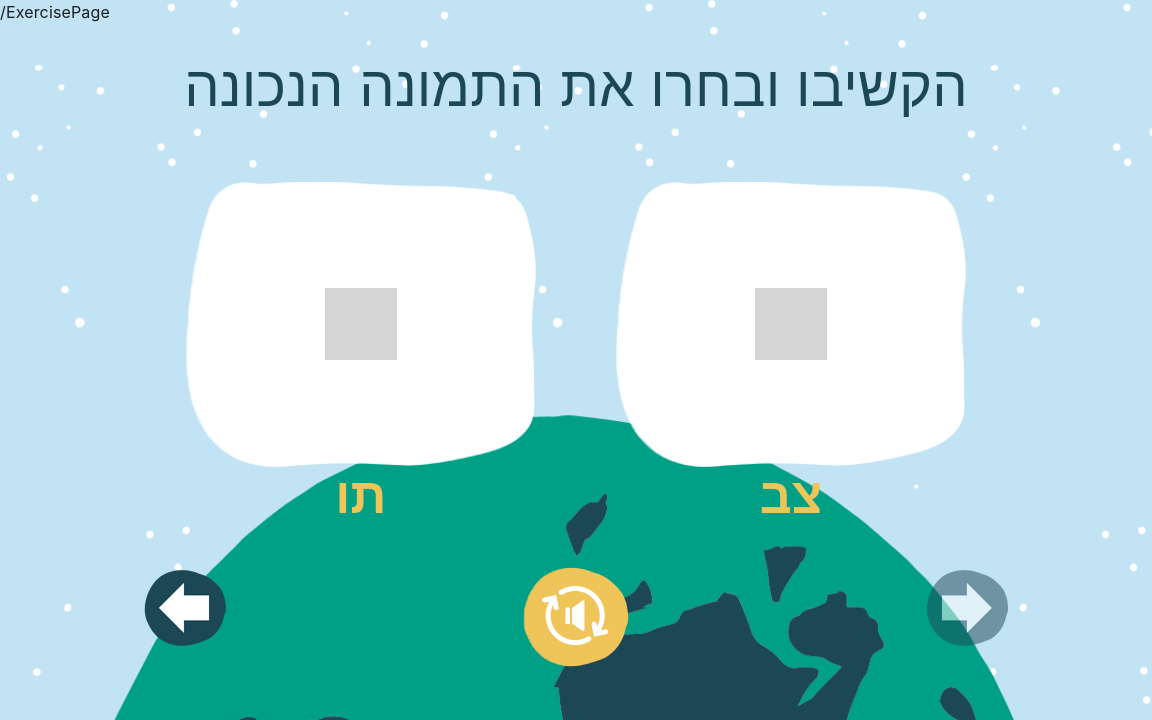
it: skipped pairs are not completed and guests never see a history action
Click the button named "הבא": click(185, 608) [134,559,236,656]
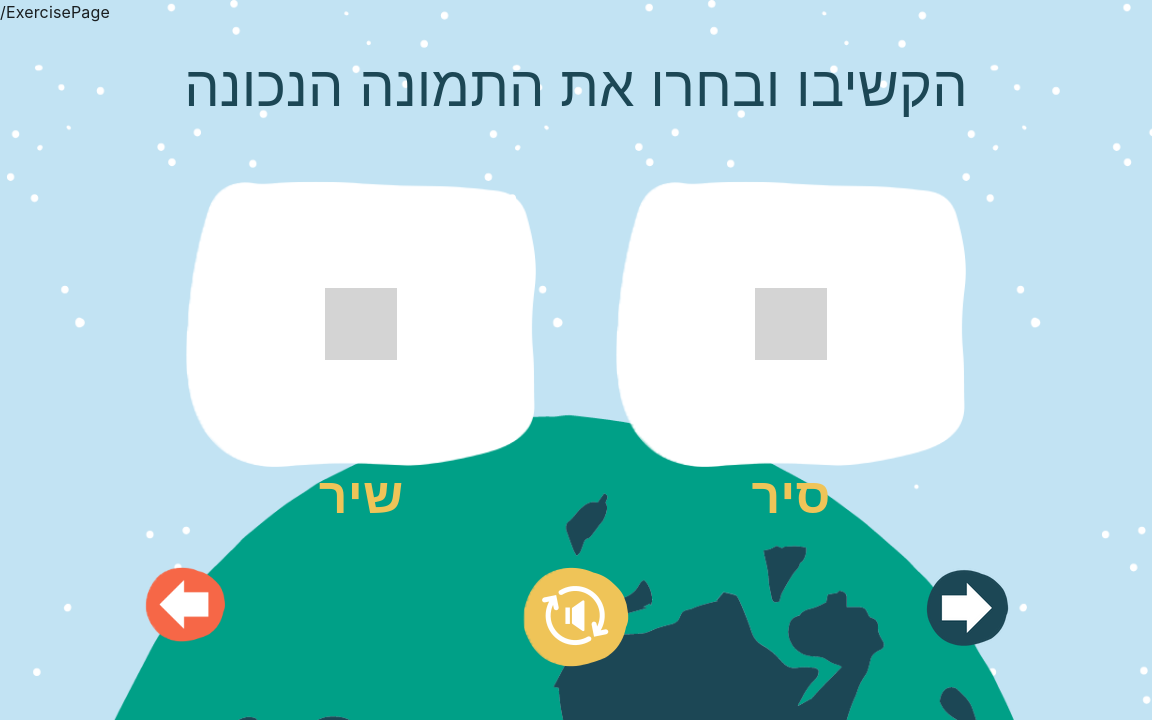
Expected: the button named "סיכום התרגול" is enabled, [137,559,233,650]
Click the button with alt text "סיר" next to "סיר": click(791, 324) [616,148,966,500]
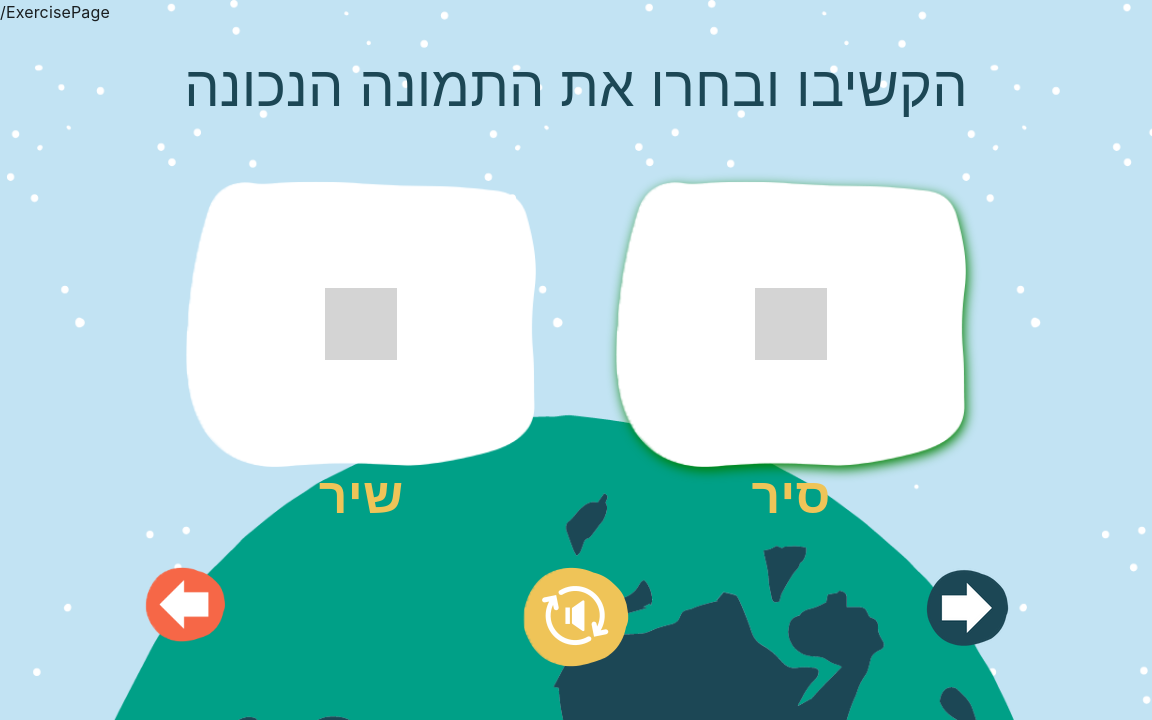
Click the button named "הקודם": click(967, 608) [916,559,1018,656]
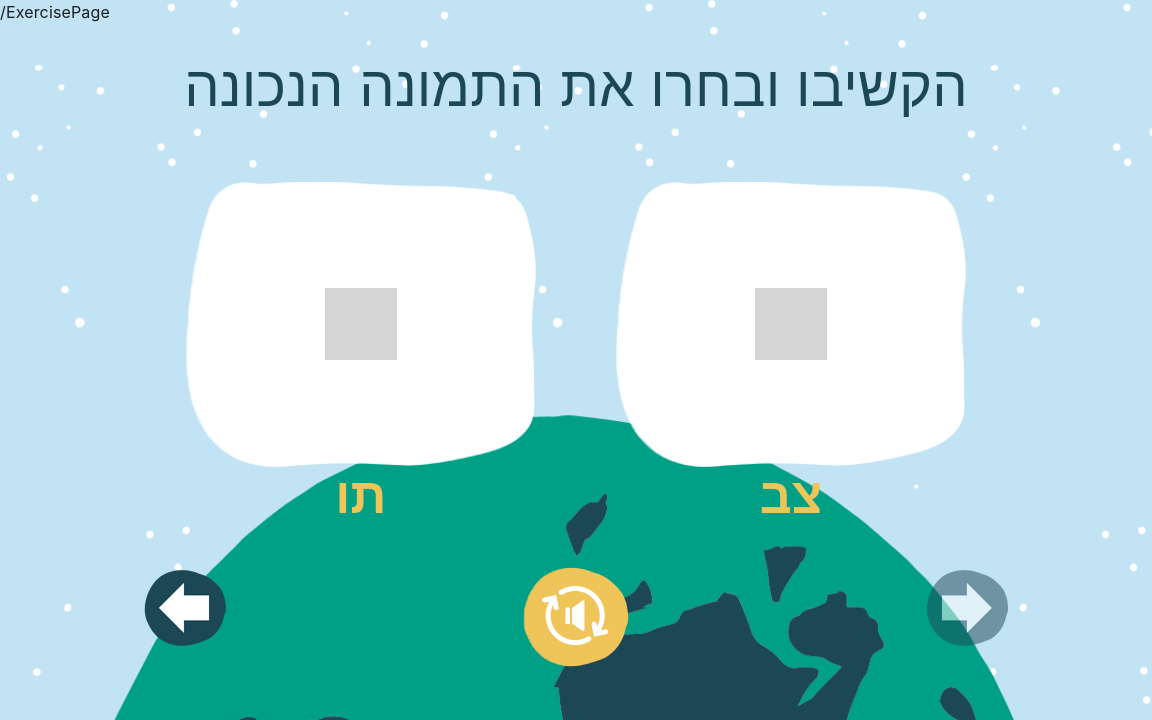
Click the button with alt text "צב" next to "צב": click(791, 324) [616,148,966,500]
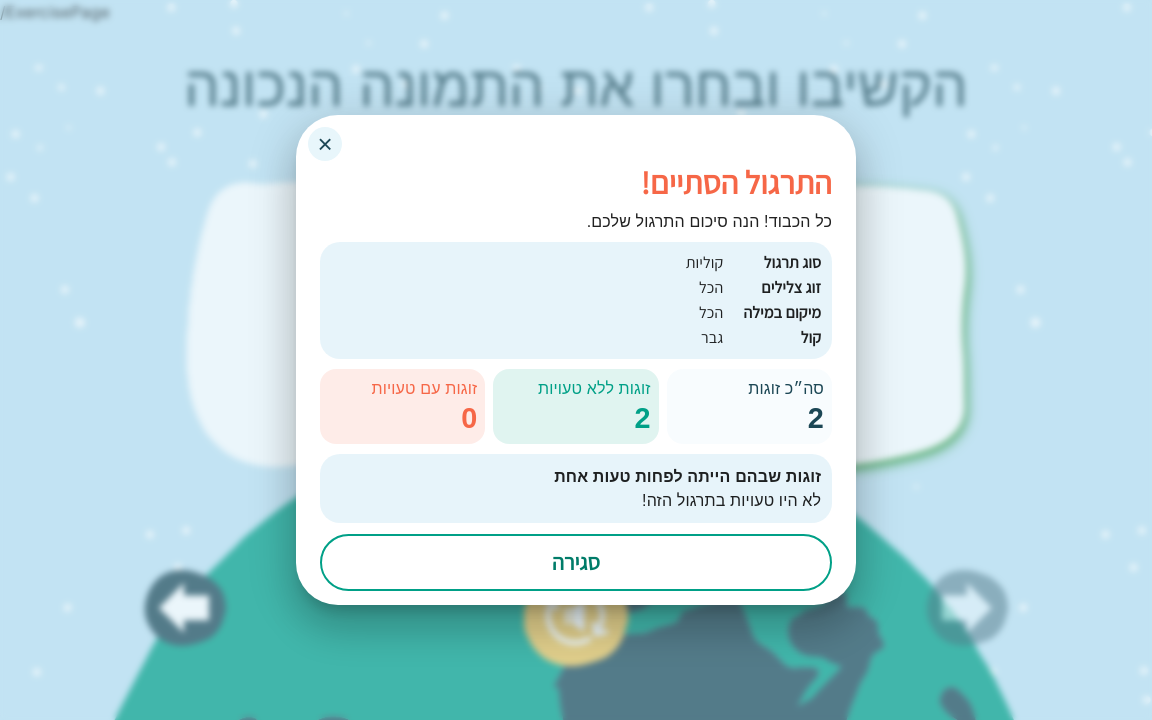
Expected: the text "לא היו טעויות בתרגול הזה!" is shown, [642,492,821,509]
Expected: the element "זוגות ללא טעויות" shows "2", [634,402,651,434]
